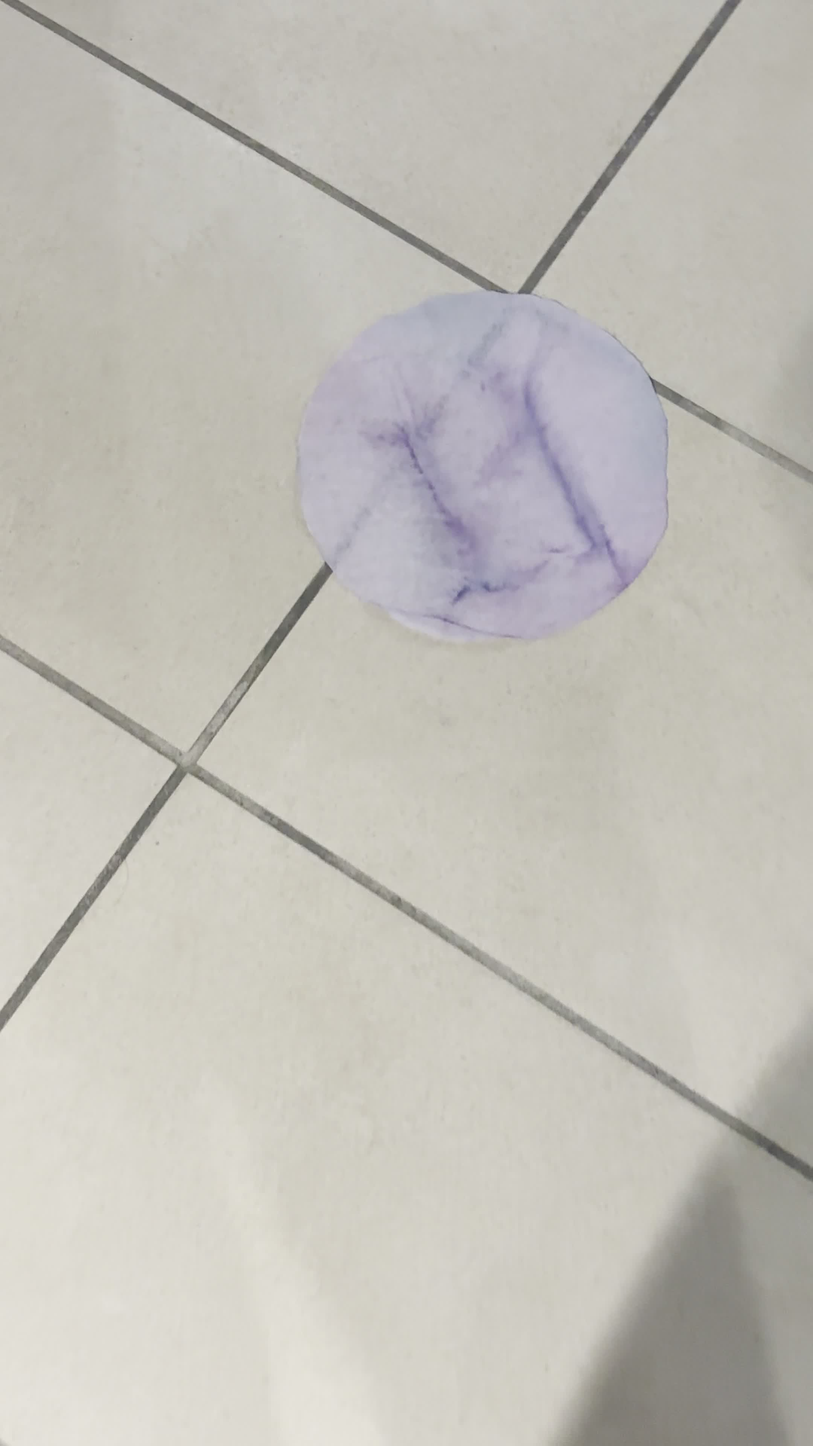Target: (296, 288, 672, 645)
